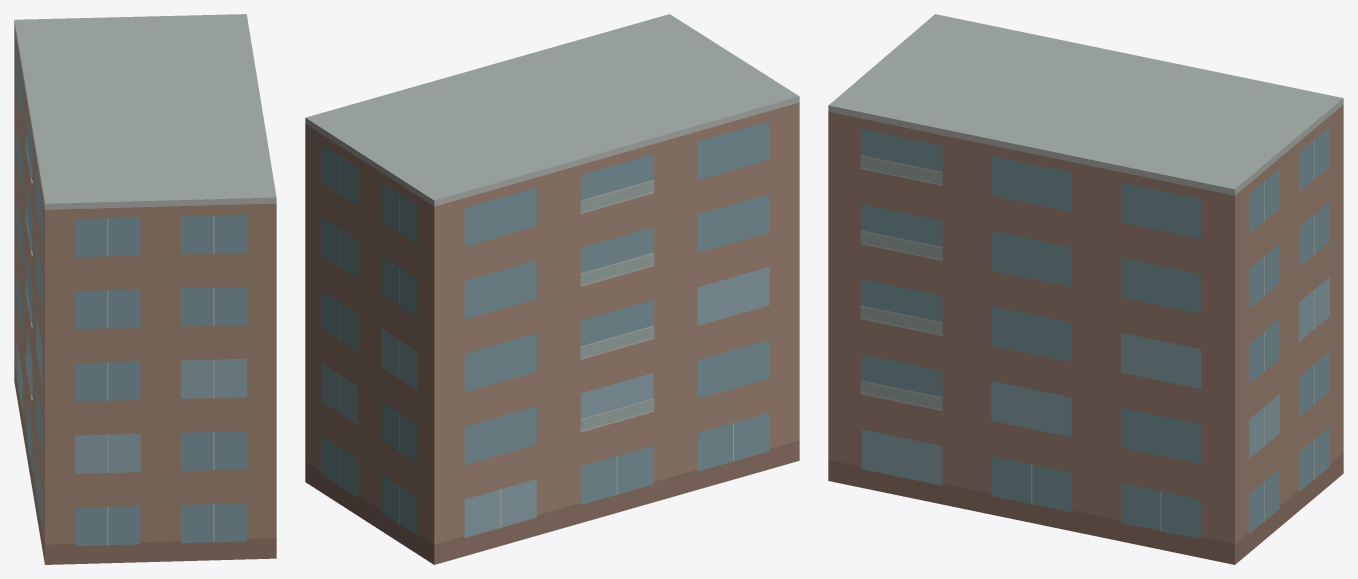
The model's file is survey-upis-32971325.glb.
3 renders of one model, left to right at view 1: azimuth 30°, elevation 25°; view 2: azimuth 150°, elevation 25°; view 3: azimuth 270°, elevation 25°, orthographic. The views are drawn at different scales.
Parts seen in each view (by area): view 1: survey-upis-32971325.tmp; view 2: survey-upis-32971325.tmp; view 3: survey-upis-32971325.tmp.
Boxes of the visible parts, x1,y1,x2,y2 form: survey-upis-32971325.tmp: (14,14,276,564); survey-upis-32971325.tmp: (305,14,799,564); survey-upis-32971325.tmp: (828,14,1343,564).
Bounding box in the file's own units: 14.64 × 14.6 × 18.17.
